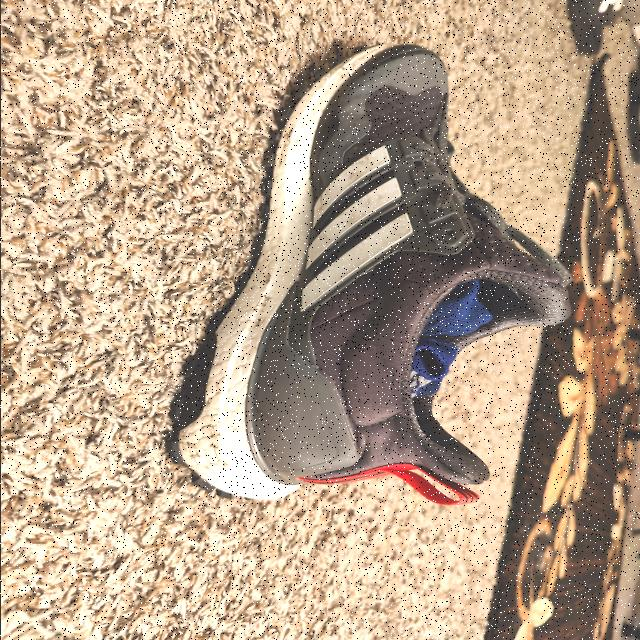black shoes: (168, 54, 562, 494)
